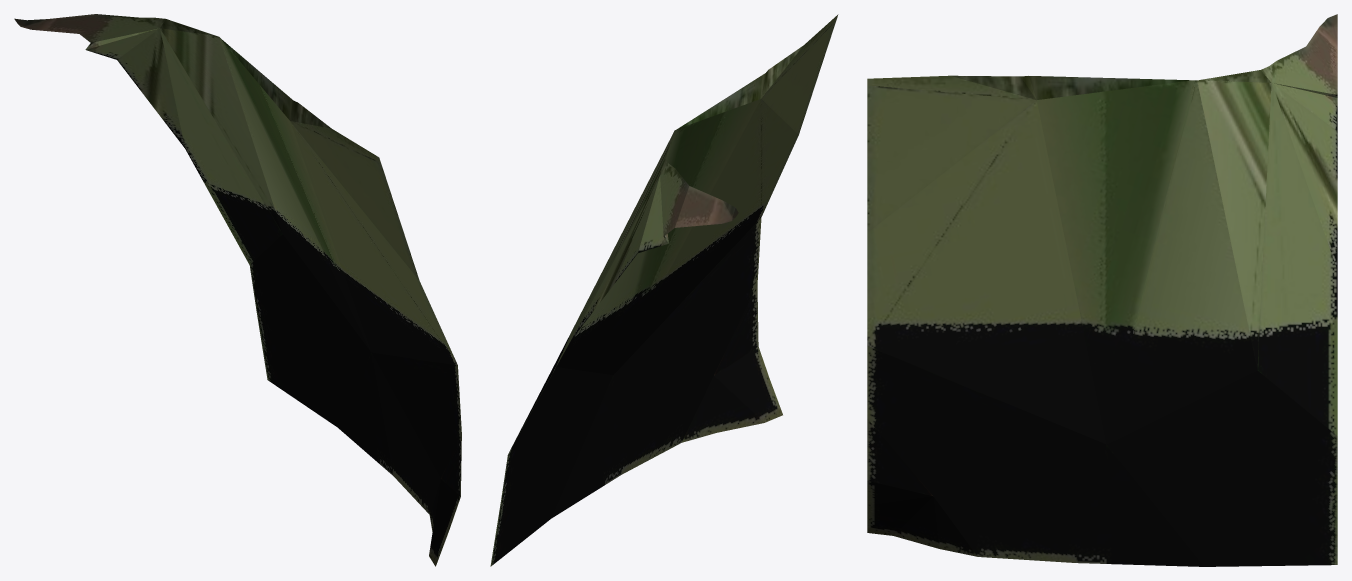
The picture shows the model from 3 angles, left to right: view 1: azimuth 30°, elevation 25°; view 2: azimuth 150°, elevation 25°; view 3: azimuth 270°, elevation 25°; orthographic projection. The views are drawn at different scales.
Bounding box in the file's own units: 3.75 × 5.9 × 5.9.
3 materials, 3 textured.
